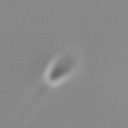normal: (15, 83, 50, 128)
